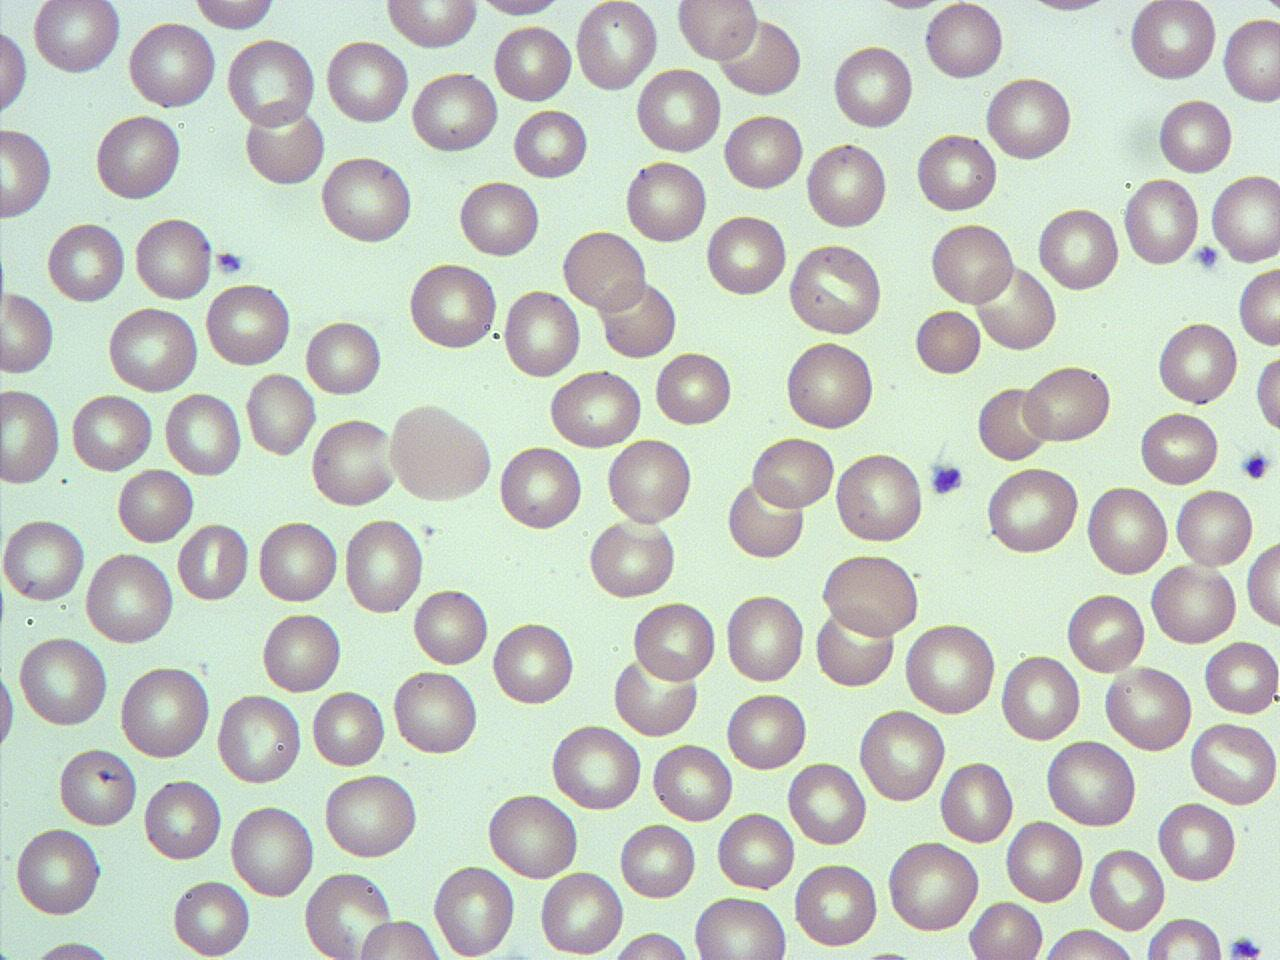Platelets: (927, 458, 966, 500), (1238, 446, 1272, 483), (1227, 932, 1263, 960), (212, 249, 246, 278), (1193, 243, 1219, 273)
RBC: (385, 400, 496, 506), (785, 240, 885, 338), (884, 836, 982, 936), (117, 661, 213, 762), (81, 547, 176, 649), (818, 550, 923, 642), (902, 619, 998, 719), (320, 770, 424, 862), (16, 630, 111, 730), (318, 151, 415, 248), (856, 705, 948, 806), (782, 338, 878, 434), (405, 258, 500, 355), (832, 449, 926, 547), (982, 464, 1080, 558), (226, 800, 318, 900), (224, 35, 319, 131), (12, 824, 108, 919), (1042, 737, 1140, 830), (213, 689, 304, 789), (125, 18, 220, 113), (484, 791, 582, 882), (341, 514, 426, 618), (309, 414, 400, 511), (1102, 662, 1196, 755), (302, 869, 398, 959), (548, 724, 644, 814), (1083, 482, 1171, 580), (430, 861, 517, 960), (722, 589, 808, 689), (983, 72, 1075, 165), (107, 304, 202, 394), (1018, 360, 1115, 448), (603, 436, 695, 528), (203, 278, 294, 371), (93, 111, 184, 204), (322, 36, 412, 130), (792, 858, 881, 952), (389, 668, 481, 758), (537, 867, 626, 960), (496, 443, 586, 534), (610, 651, 702, 740), (572, 1, 660, 94), (490, 616, 577, 710), (928, 218, 1018, 308), (240, 99, 329, 190), (630, 597, 719, 688), (1186, 718, 1278, 806), (973, 261, 1060, 354), (830, 39, 916, 133), (1035, 202, 1121, 296), (585, 516, 680, 601), (0, 514, 87, 606), (254, 516, 341, 608), (804, 138, 890, 231), (546, 368, 642, 451), (1121, 174, 1203, 271), (560, 226, 650, 314), (784, 758, 870, 850), (999, 650, 1083, 744), (500, 286, 582, 382), (635, 66, 723, 155), (410, 69, 501, 155), (1127, 0, 1219, 85), (812, 602, 898, 692), (722, 474, 808, 564), (624, 156, 710, 246), (1148, 561, 1238, 647), (1154, 317, 1240, 407), (141, 773, 224, 865), (718, 12, 804, 100), (722, 688, 810, 774), (720, 108, 806, 196), (703, 211, 788, 300), (45, 217, 128, 307), (30, 0, 125, 78), (913, 129, 999, 215), (491, 20, 576, 107), (714, 807, 798, 895), (56, 743, 140, 831), (1064, 589, 1148, 677), (162, 388, 243, 479), (258, 609, 344, 694), (1155, 798, 1239, 885), (132, 214, 213, 304), (1087, 842, 1167, 933), (648, 740, 734, 824), (169, 874, 253, 960), (68, 391, 155, 474), (938, 757, 1016, 849), (652, 346, 736, 431), (242, 369, 320, 460), (1208, 170, 1280, 268), (303, 314, 385, 400), (1005, 818, 1085, 906), (923, 0, 1006, 84), (598, 275, 680, 360), (114, 463, 196, 548), (1136, 407, 1222, 488), (411, 584, 492, 670), (690, 892, 792, 960), (456, 178, 540, 260), (750, 436, 838, 514), (1172, 487, 1254, 570), (309, 686, 388, 772), (1155, 94, 1235, 177), (1202, 635, 1280, 718), (0, 386, 63, 488), (618, 820, 696, 902), (176, 518, 250, 604), (510, 105, 592, 181), (976, 382, 1048, 464), (1220, 13, 1280, 108), (0, 124, 56, 222), (673, 0, 760, 63), (912, 304, 984, 380), (0, 286, 57, 377), (965, 898, 1046, 960), (383, 0, 480, 51), (1235, 262, 1279, 351), (1142, 914, 1226, 960), (352, 918, 442, 959), (1038, 926, 1144, 960), (1244, 533, 1280, 631), (187, 0, 282, 34), (0, 17, 30, 122), (607, 928, 695, 960), (1252, 348, 1280, 435), (470, 0, 576, 21), (0, 651, 18, 770)
